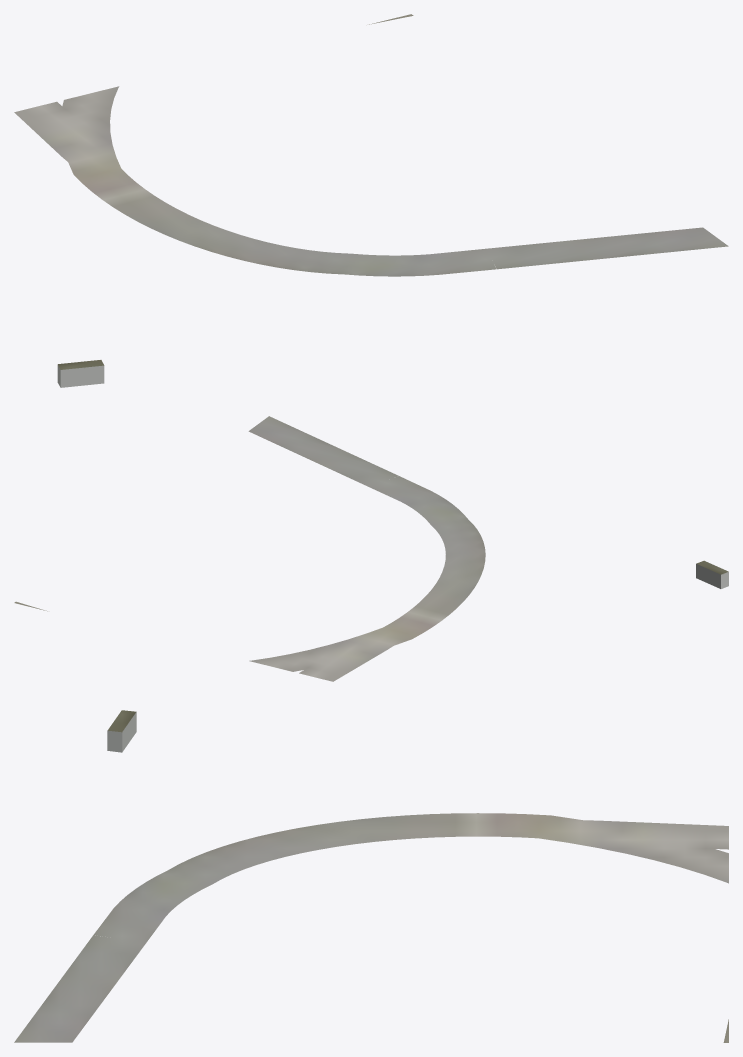
Rendered from LSZH_-2_-1.glb.
3 renders of one model, top to bottom at view 1: azimuth 30°, elevation 25°; view 2: azimuth 150°, elevation 25°; view 3: azimuth 270°, elevation 25°, orthographic. The views are drawn at different scales.
Visible parts, largest first — view 1: pavement_LSZH_pavement_5365_2513, building_7b5a9468f75d33db; view 2: pavement_LSZH_pavement_5365_2513, building_7b5a9468f75d33db; view 3: pavement_LSZH_pavement_5365_2513, building_7b5a9468f75d33db.
Boxes of the visible parts, bbox=[...] form: pavement_LSZH_pavement_5365_2513: bbox=[14, 14, 728, 276]; building_7b5a9468f75d33db: bbox=[57, 365, 104, 387]; pavement_LSZH_pavement_5365_2513: bbox=[14, 416, 485, 681]; building_7b5a9468f75d33db: bbox=[696, 564, 728, 588]; pavement_LSZH_pavement_5365_2513: bbox=[14, 813, 728, 1042]; building_7b5a9468f75d33db: bbox=[107, 713, 136, 752].
Bounding box in the file's own units: 217 × 8.42 × 192.
3 materials, 2 textured.
